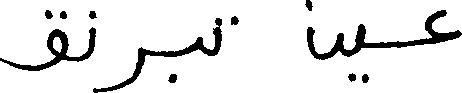X: (0, 5, 65, 75), (95, 8, 143, 92), (308, 0, 341, 64), (427, 5, 461, 48), (356, 19, 364, 87), (89, 6, 93, 92), (214, 13, 220, 60), (196, 32, 201, 55)
